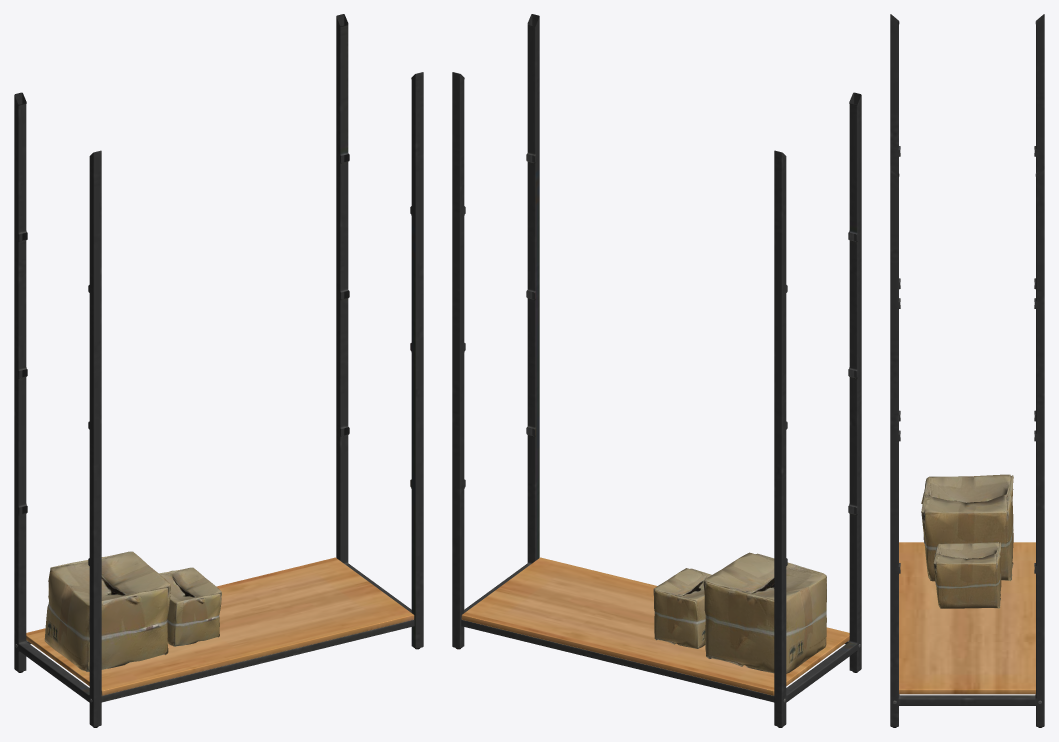
File: parcel-rack.glb
The picture shows the model from 3 angles, left to right: view 1: azimuth 30°, elevation 25°; view 2: azimuth 150°, elevation 25°; view 3: azimuth 270°, elevation 25°; orthographic projection. The views are drawn at different scales.
Visible parts, largest first — view 1: body, shelf, parcels; view 2: body, shelf, parcels; view 3: shelf, body, parcels.
Boxes of the visible parts, x1,y1,x2,y2 form: body: (14,14,423,727); shelf: (15,557,414,702); parcels: (44,551,221,671); body: (452,14,861,727); shelf: (461,557,860,702); parcels: (653,552,826,673); shelf: (893,542,1041,705); body: (890,14,1044,727); parcels: (921,474,1013,608).
Size of the model in its own units: 1.2 by 2 by 0.5.
2 materials, 2 textured.
